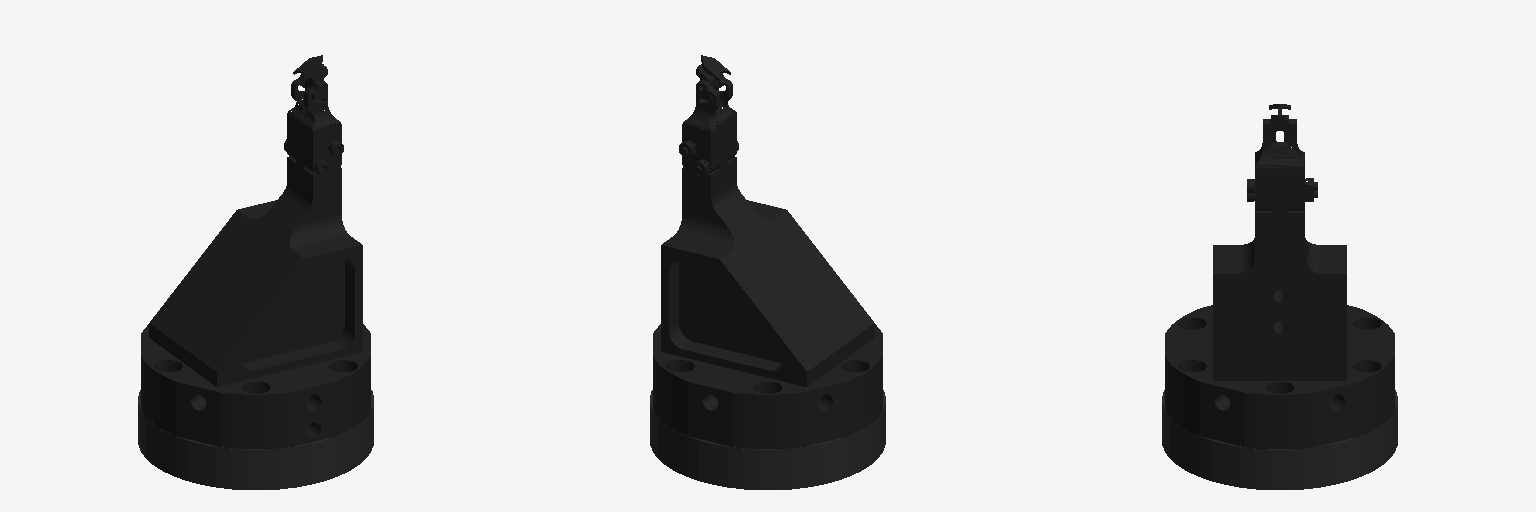
Rendered from l7cutter.obj.
The picture shows the model from 3 angles: view 1: azimuth 30°, elevation 25°; view 2: azimuth 150°, elevation 25°; view 3: azimuth 270°, elevation 25°; orthographic projection.
Size of the model in its own units: 0.089 by 0.1534 by 0.0889.